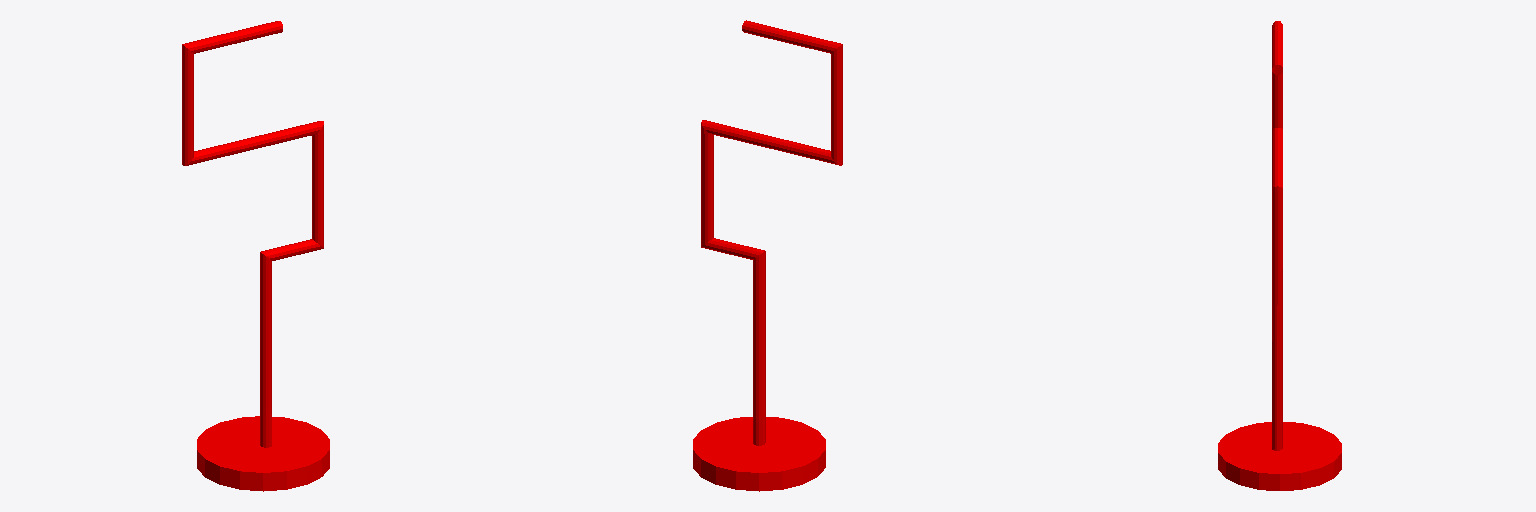
The robot description file, URDF, robot "ring":
<?xml version="0.0" ?>
<robot name="ring">
    <material name="white">
        <color rgba="1 0 0 1"/>
    </material>

    <link name="baseLink">
        <!-- from lego/lego.urdf -->
        <contact>
            <lateral_friction value="1.0"/>
            <rolling_friction value="0.0"/>
            <contact_cfm value="0.0"/>
            <contact_erp value="1.0"/>
        </contact>
        <inertial>
            <origin rpy="0 0 0" xyz="0 0 0"/>
            <mass value="0.01"/>
            <inertia ixx="1" ixy="0" ixz="0" iyy="1" iyz="0" izz="1"/>
        </inertial>
        <visual>
            <origin rpy="1.57 0 0" xyz="0 0 0"/>
            <geometry>
                <!--        radius: 10mm, depth: 14.5mm-->
                <mesh filename="meshes/s.obj" scale="1 1 1"/>
                <!--        <box size="0.002 0.002 0.002"/>-->
            </geometry>
            <material name="white"/>
        </visual>
        <collision>
            <origin rpy="1.57 0 0" xyz="0 0 0"/>
            <geometry>
                <mesh filename="meshes/s_vhacd.obj" scale="1 1 1"/>
                       <!-- <box size="2 2 2"/> -->
            </geometry>
        </collision>
    </link>
</robot>

--- What the picture shows (computed from the rendered views, not written in the file) ---
3 views of the same robot in one strip: view 1: azimuth 30°, elevation 25°; view 2: azimuth 150°, elevation 25°; view 3: azimuth 270°, elevation 25° (orthographic).
Robot: ring — 1 links, 0 joints (none); root link baseLink; default pose: every joint at zero.
Links seen in each view (by area): view 1: baseLink; view 2: baseLink; view 3: baseLink.
Link boxes in pixels (x1,y1,x2,y2): baseLink: (182, 21, 329, 491); baseLink: (693, 20, 842, 491); baseLink: (1218, 21, 1341, 490).
Size in the robot's own frame: 0.0377 by 0.031 by 0.1125 metres.
1 mesh visuals loaded from 1 distinct referenced files (1 OBJ).